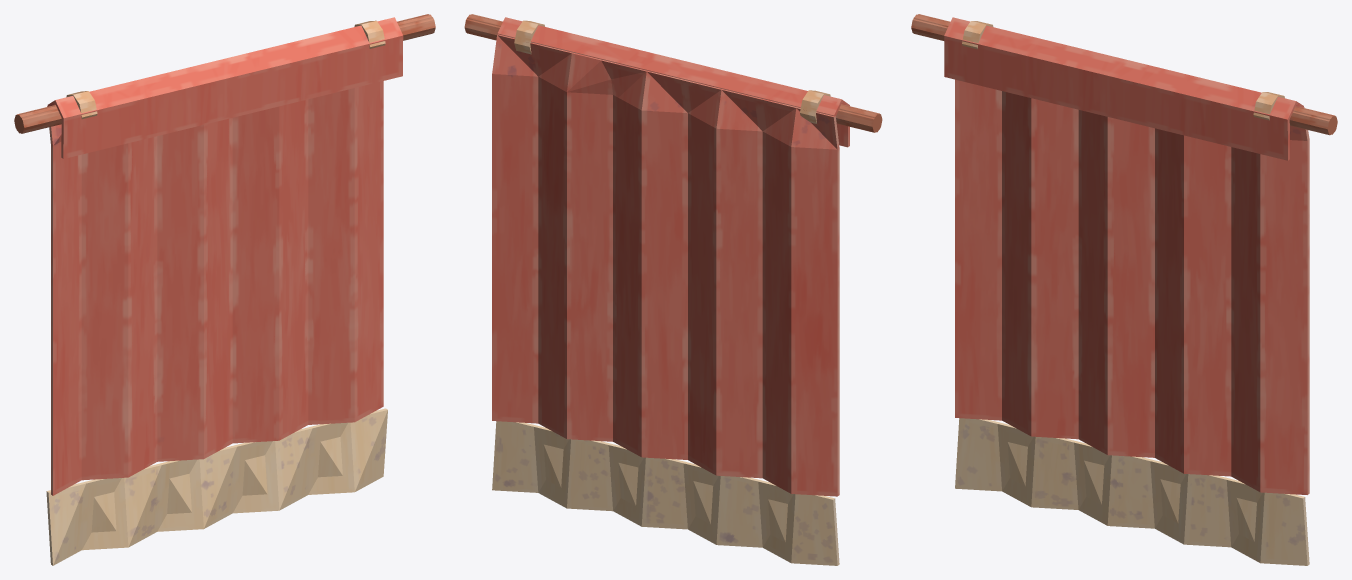
File: cloth.bundle.fbx
The picture shows the model from 3 angles, left to right: view 1: azimuth 30°, elevation 25°; view 2: azimuth 150°, elevation 25°; view 3: azimuth 330°, elevation 25°; orthographic projection. The views are drawn at different scales.
Parts seen in each view (by area): view 1: cloth, cloth_s01, cloth_s03, cloth_s00, cloth_s02; view 2: cloth, cloth_s01, cloth_s03, cloth_s00, cloth_s02; view 3: cloth, cloth_s01, cloth_s02, cloth_s03, cloth_s00.
Part boxes in pixels (x1,y1,x2,y2): cloth: (14,14,435,565); cloth_s01: (51,157,285,426); cloth_s03: (234,14,432,332); cloth_s00: (51,317,383,495); cloth_s02: (17,42,292,171); cloth: (464,14,882,565); cloth_s01: (577,161,839,454); cloth_s03: (467,14,640,346); cloth_s00: (492,331,839,496); cloth_s02: (601,43,876,187); cloth: (911,14,1337,565); cloth_s01: (955,79,1222,374); cloth_s02: (914,14,1191,180); cloth_s03: (1160,76,1333,367); cloth_s00: (955,364,1305,494).
Size of the model in its own units: 8 by 8.7 by 0.745.
1 material, 1 textured.
